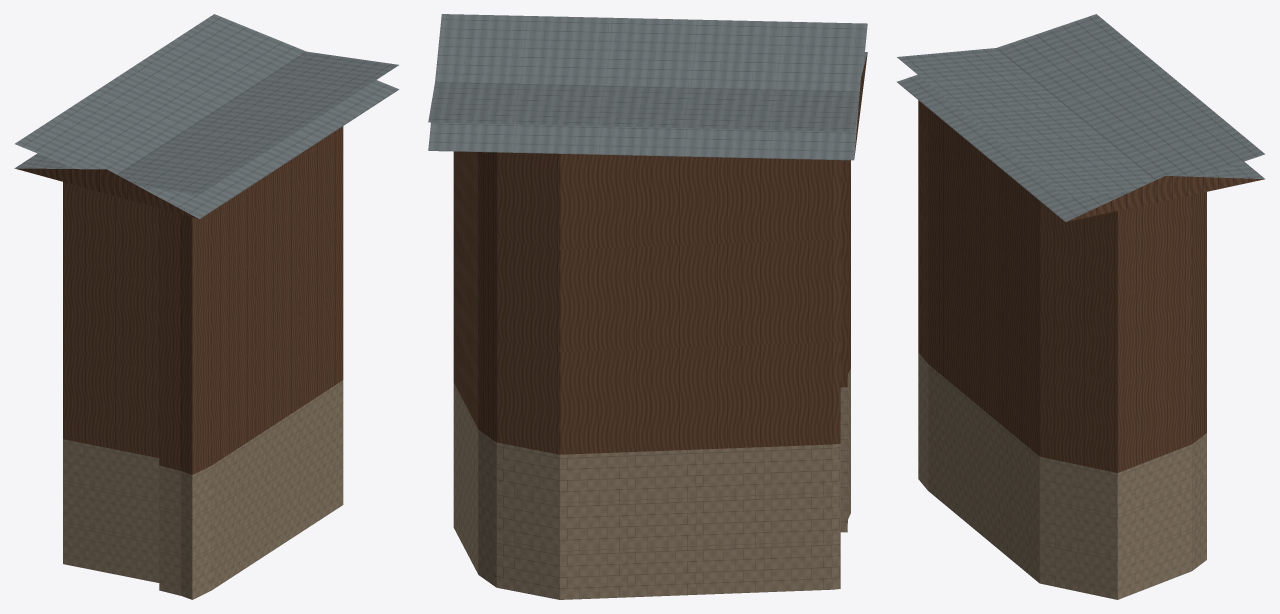
The model's file is bld_c-18_18_515.gltf.
3 renders of one model, left to right at view 1: azimuth 30°, elevation 25°; view 2: azimuth 150°, elevation 25°; view 3: azimuth 270°, elevation 25°, orthographic. The views are drawn at different scales.
Parts seen in each view (by area): view 1: bld_c-18_18_515; view 2: bld_c-18_18_515; view 3: bld_c-18_18_515.
Boxes of the visible parts, left/top/right/bottom form: bld_c-18_18_515: left=14, top=14, right=398, bottom=599; bld_c-18_18_515: left=428, top=14, right=867, bottom=599; bld_c-18_18_515: left=897, top=14, right=1264, bottom=599.
Size of the model in its own units: 15.81 by 16.9 by 13.45.
Materials: 4 (4 with a texture image).
